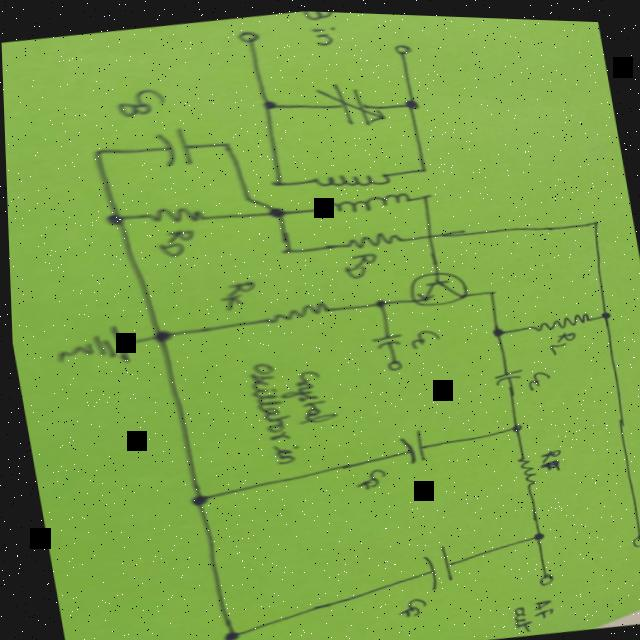capacitor: (316, 75, 382, 128), (415, 540, 458, 586), (154, 124, 195, 167), (359, 324, 407, 351), (394, 424, 429, 459), (493, 362, 523, 378)
ground: (52, 320, 131, 372)
junction: (138, 321, 178, 350), (183, 486, 216, 511), (99, 206, 133, 230), (254, 91, 287, 114), (260, 199, 292, 222), (395, 90, 426, 111), (483, 318, 510, 337), (502, 414, 527, 434), (522, 522, 549, 539), (365, 292, 392, 308), (214, 625, 242, 640), (89, 143, 112, 158), (595, 302, 615, 319), (214, 136, 236, 150), (235, 188, 257, 202), (269, 173, 292, 186), (277, 241, 299, 253), (416, 187, 435, 198), (415, 160, 431, 170), (483, 283, 499, 293), (421, 227, 436, 237), (586, 212, 601, 222)
resistor: (261, 294, 336, 323), (146, 198, 212, 227), (338, 223, 411, 249), (530, 304, 596, 330), (511, 448, 539, 487)
terminal: (234, 23, 267, 50), (389, 36, 417, 59), (378, 349, 406, 371), (530, 565, 556, 582), (622, 525, 640, 542)
text: (246, 347, 346, 467), (299, 9, 347, 49), (113, 83, 169, 117), (505, 593, 556, 625), (154, 224, 200, 258), (215, 275, 261, 309), (341, 246, 380, 278), (352, 463, 388, 488), (546, 324, 580, 349), (391, 592, 426, 616), (534, 443, 564, 468), (407, 324, 442, 345), (525, 364, 553, 386), (637, 547, 640, 580)
transformer: (309, 159, 416, 215)
transistor: (405, 262, 470, 305)
